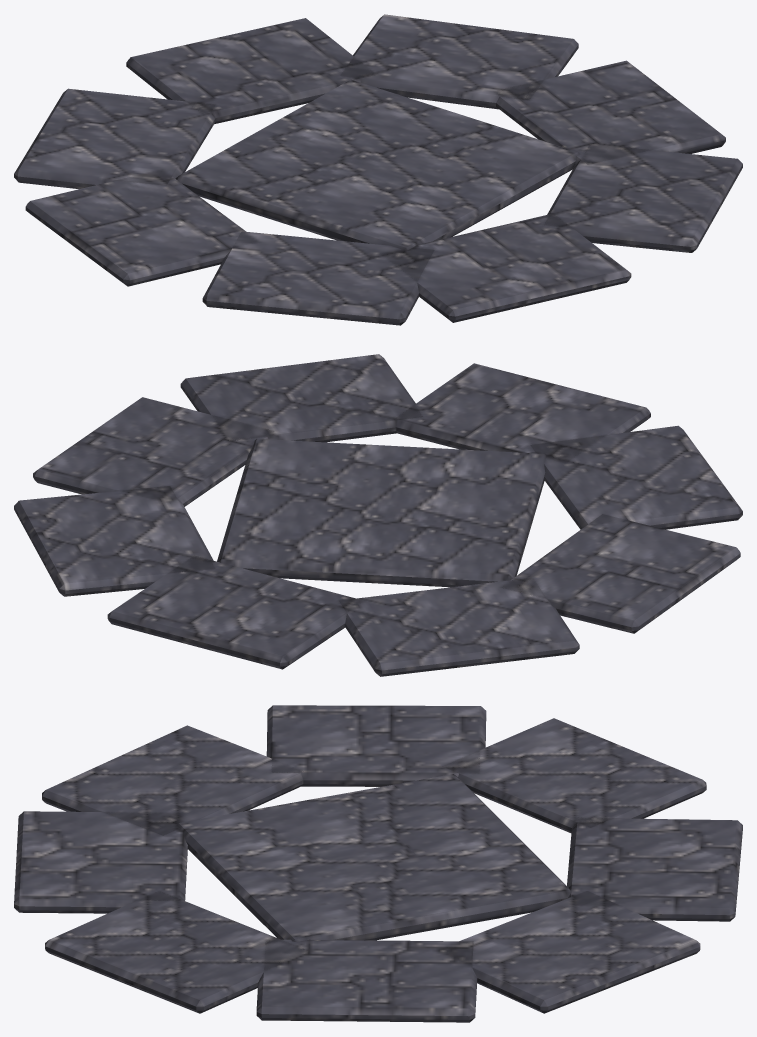
The model's file is mapkit_pad_magma.fbx.
The picture shows the model from 3 angles, top to bottom: view 1: azimuth 30°, elevation 25°; view 2: azimuth 150°, elevation 25°; view 3: azimuth 270°, elevation 25°; orthographic projection. The views are drawn at different scales.
Parts seen in each view (by area): view 1: Body; view 2: Body; view 3: Body.
Boxes of the visible parts, x1,y1,x2,y2 form: Body: [14, 14, 742, 325]; Body: [14, 354, 742, 676]; Body: [14, 705, 742, 1022].
Bounding box in the file's own units: 684 × 16 × 683.
Materials: 1 (1 with a texture image).
